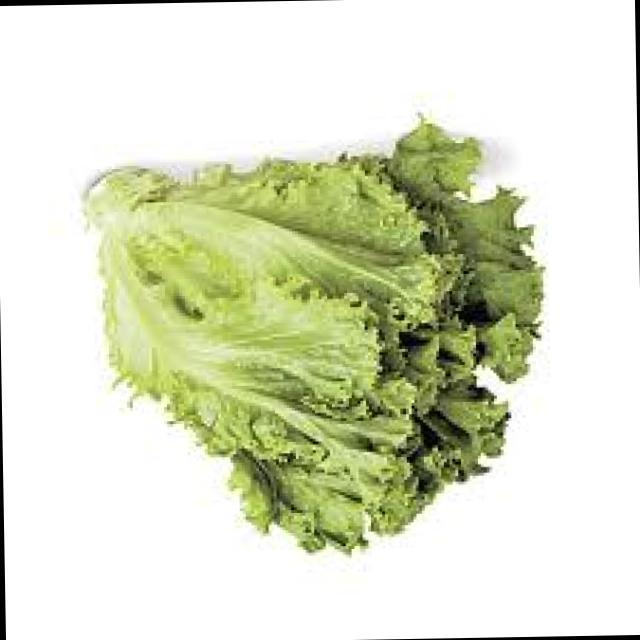Lettuce: (36, 87, 574, 591)
